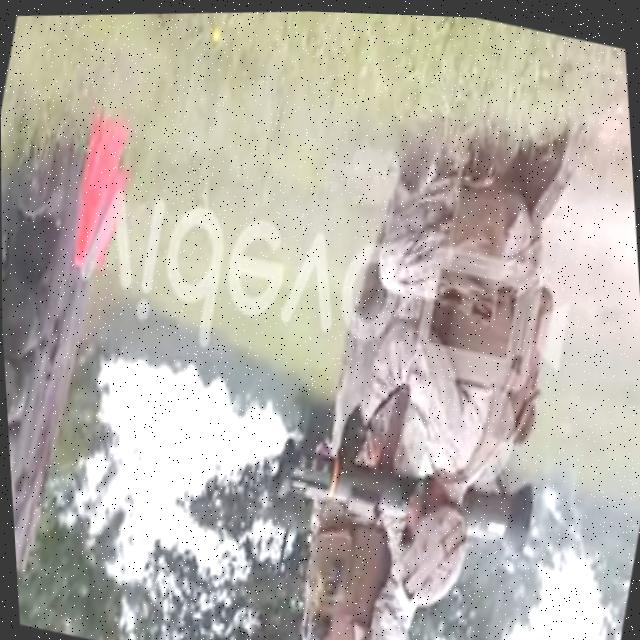rocket: (270, 419, 543, 561)
